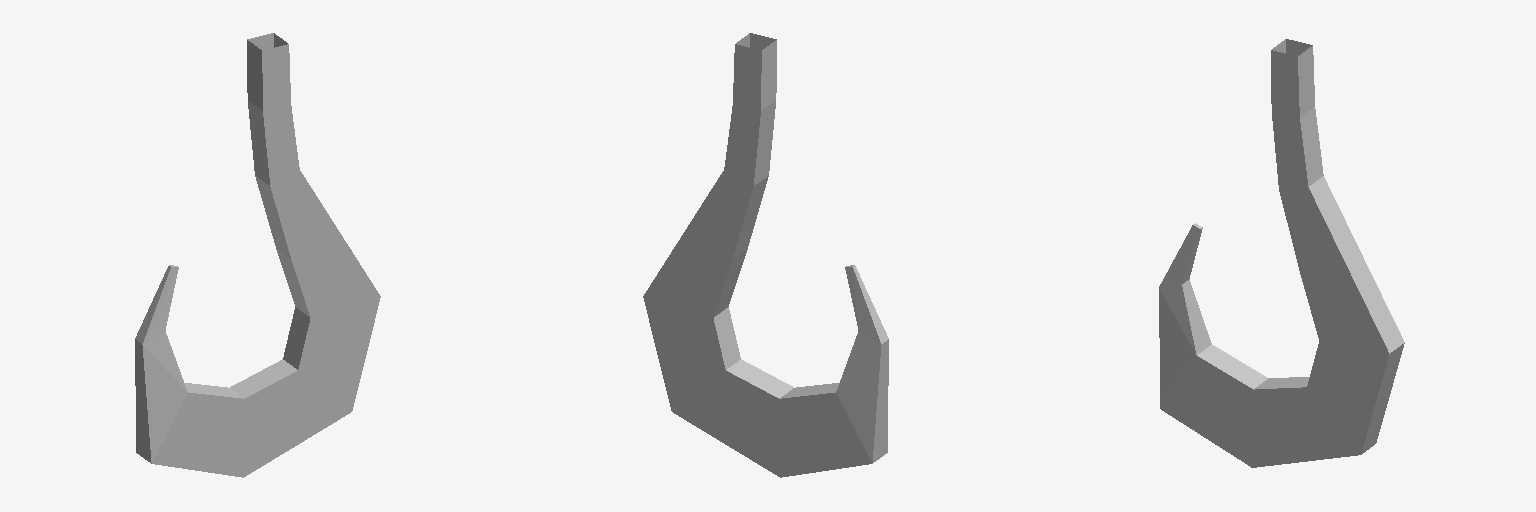
File: world_Zero_Hook.obj
3 renders of one model, left to right at view 1: azimuth 30°, elevation 25°; view 2: azimuth 150°, elevation 25°; view 3: azimuth 330°, elevation 25°, orthographic.
Visible parts, largest first — view 1: Hook_HookHookBoat_Full; view 2: Hook_HookHookBoat_Full; view 3: Hook_HookHookBoat_Full.
Part boxes in pixels (left/top/right/bottom): Hook_HookHookBoat_Full: left=135, top=33, right=380, bottom=477; Hook_HookHookBoat_Full: left=643, top=33, right=888, bottom=477; Hook_HookHookBoat_Full: left=1159, top=39, right=1404, bottom=467.
Bounding box in the file's own units: 8.33 × 14.34 × 0.9424.